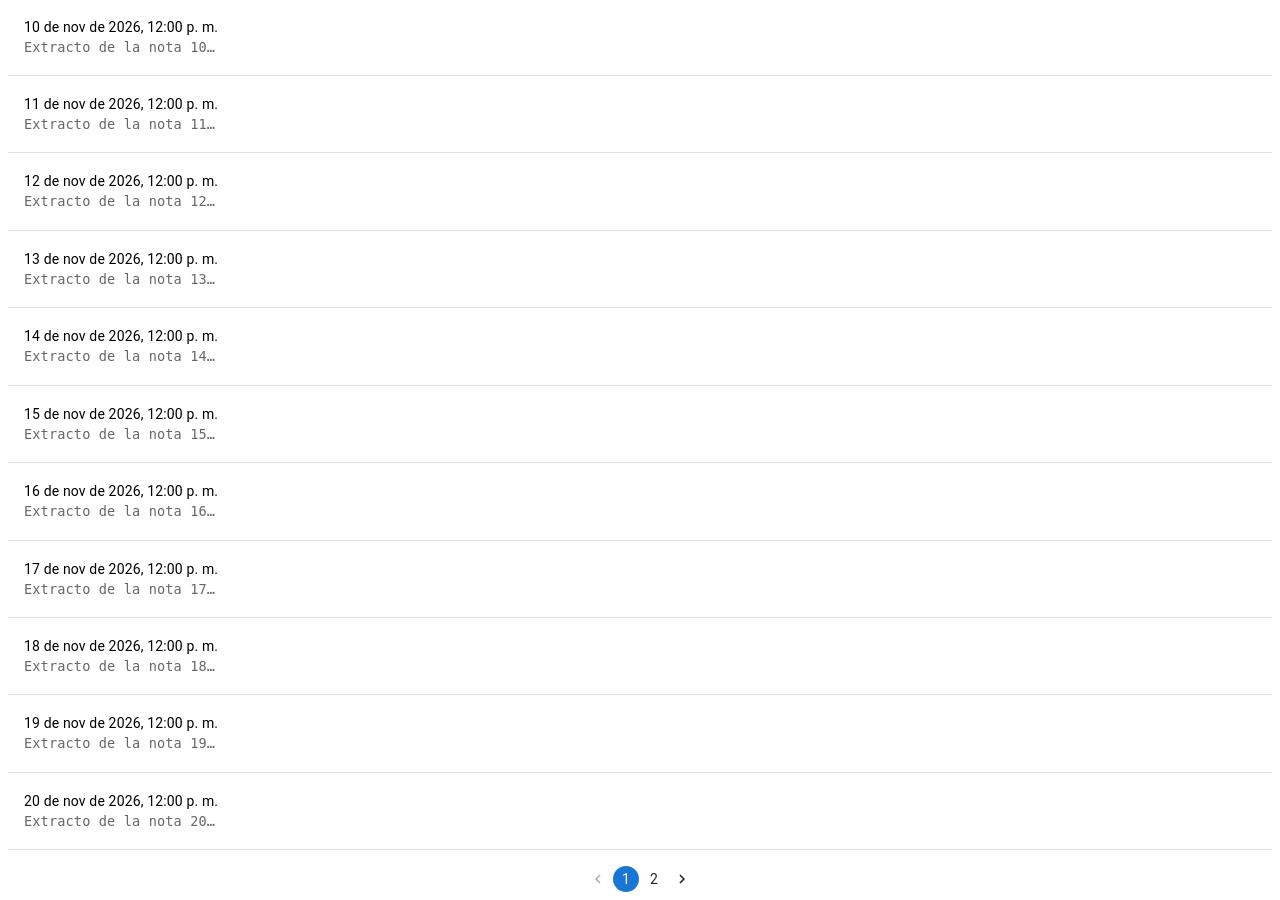
it: VoiceLibrary › navega a la página siguiente
(page scrolled)
expect the navigation bar is shown: met, box [584, 866, 696, 892]
// Hacer clic en la página 2
Click the button named "Go to page 2" at (654, 879), box [641, 866, 667, 892]
(page scrolled)
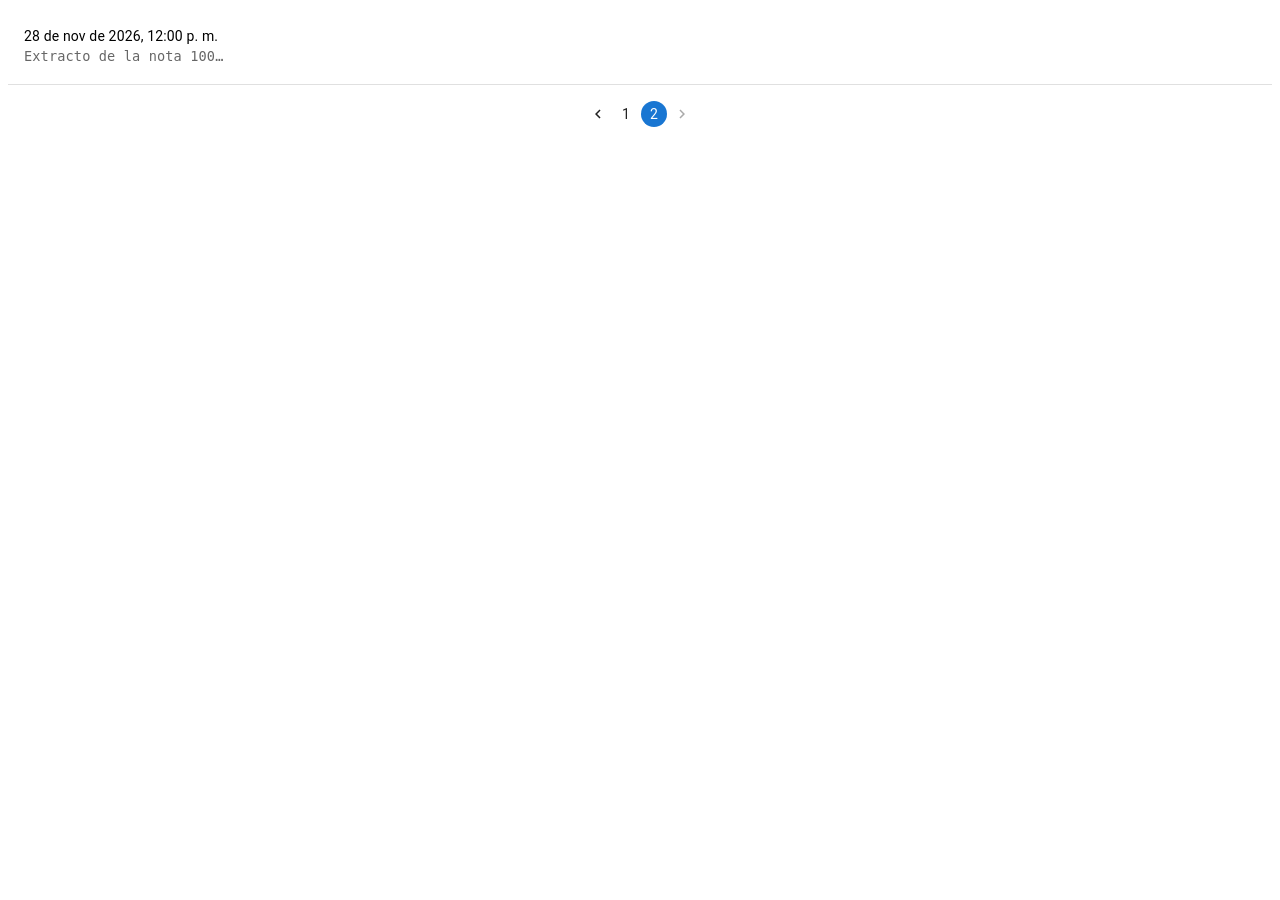
expect the text "Extracto de la nota 100…" is shown: met, box [24, 48, 224, 64]
